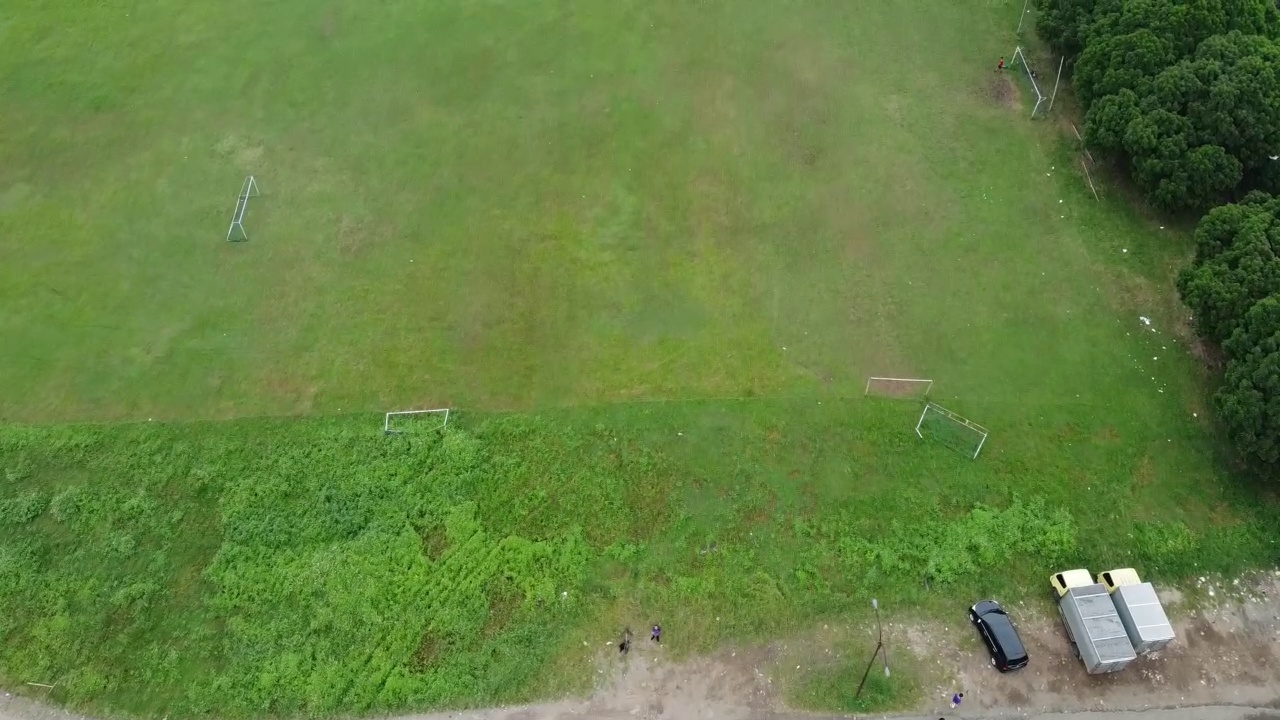mobil: (958, 591, 1034, 672)
